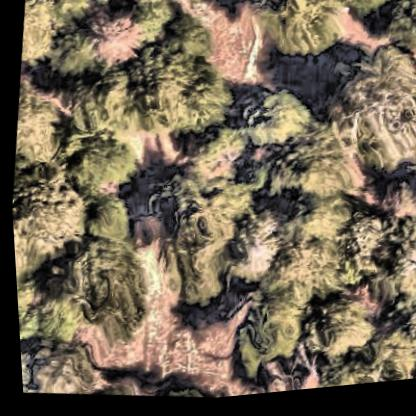tree-top: (102, 15, 238, 155), (313, 45, 416, 186), (318, 192, 416, 308), (199, 202, 294, 306), (281, 279, 377, 381), (67, 233, 153, 344), (42, 112, 137, 203), (240, 0, 345, 78), (228, 86, 314, 166), (12, 250, 72, 357), (218, 298, 295, 380), (71, 0, 142, 79), (64, 184, 134, 260), (34, 16, 102, 88), (372, 0, 416, 71)
